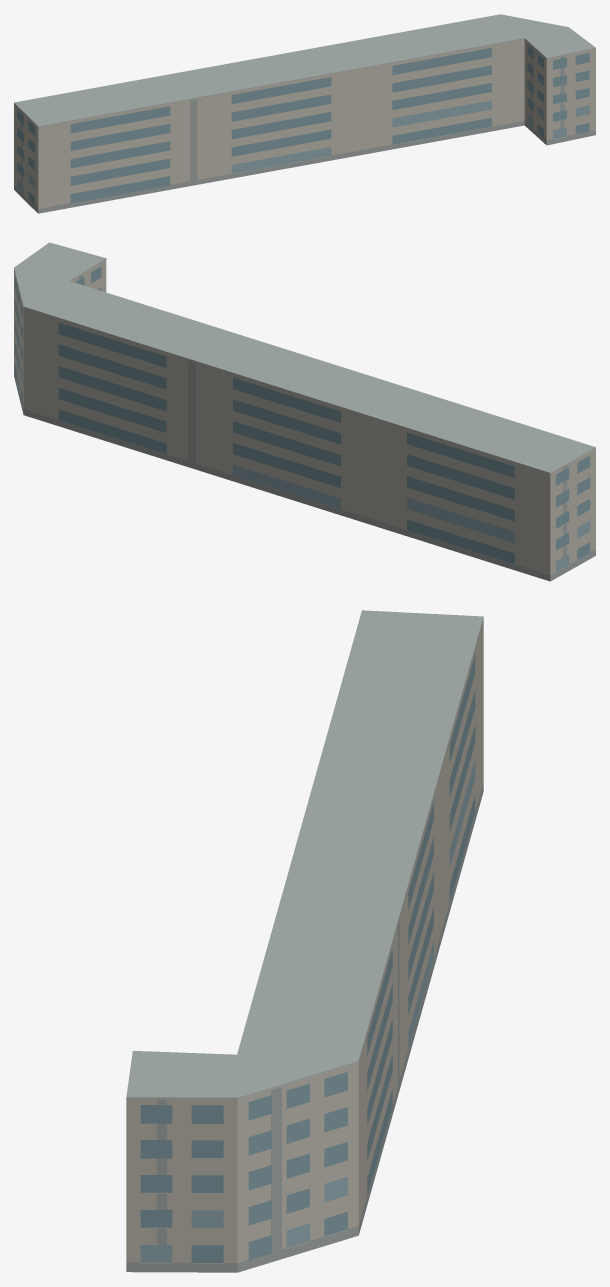
Rendered from residential-45a40ae6-c6ec-4a59-98d2-d82246debba7.glb.
3 renders of one model, top to bottom at view 1: azimuth 30°, elevation 25°; view 2: azimuth 150°, elevation 25°; view 3: azimuth 270°, elevation 25°, orthographic. The views are drawn at different scales.
Parts seen in each view (by area): view 1: residential-45a40ae6-c6ec-4a59-98d2-d82246debba7.tmp; view 2: residential-45a40ae6-c6ec-4a59-98d2-d82246debba7.tmp; view 3: residential-45a40ae6-c6ec-4a59-98d2-d82246debba7.tmp.
Part boxes in pixels (<box>): residential-45a40ae6-c6ec-4a59-98d2-d82246debba7.tmp: <box>14,14,595,213</box>; residential-45a40ae6-c6ec-4a59-98d2-d82246debba7.tmp: <box>14,242,595,581</box>; residential-45a40ae6-c6ec-4a59-98d2-d82246debba7.tmp: <box>126,610,483,1272</box>.
Bounding box in the file's own units: 91.19 × 15.25 × 28.25.
